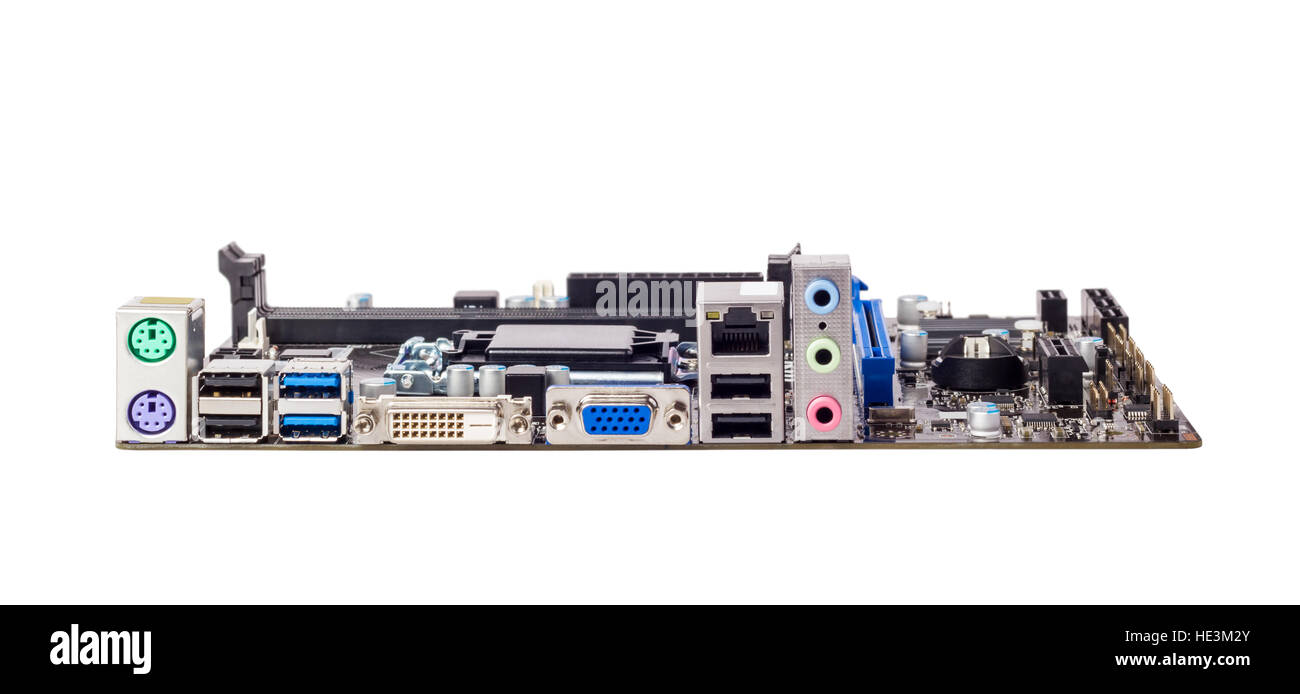Audio: (805, 336, 840, 377), (805, 392, 846, 427), (802, 279, 840, 311)
Ethernet: (704, 308, 777, 365)
USB: (277, 366, 345, 406), (705, 366, 773, 404), (199, 366, 264, 403), (279, 409, 342, 440), (707, 411, 773, 438), (198, 412, 264, 438)
VGA: (576, 389, 659, 438)
